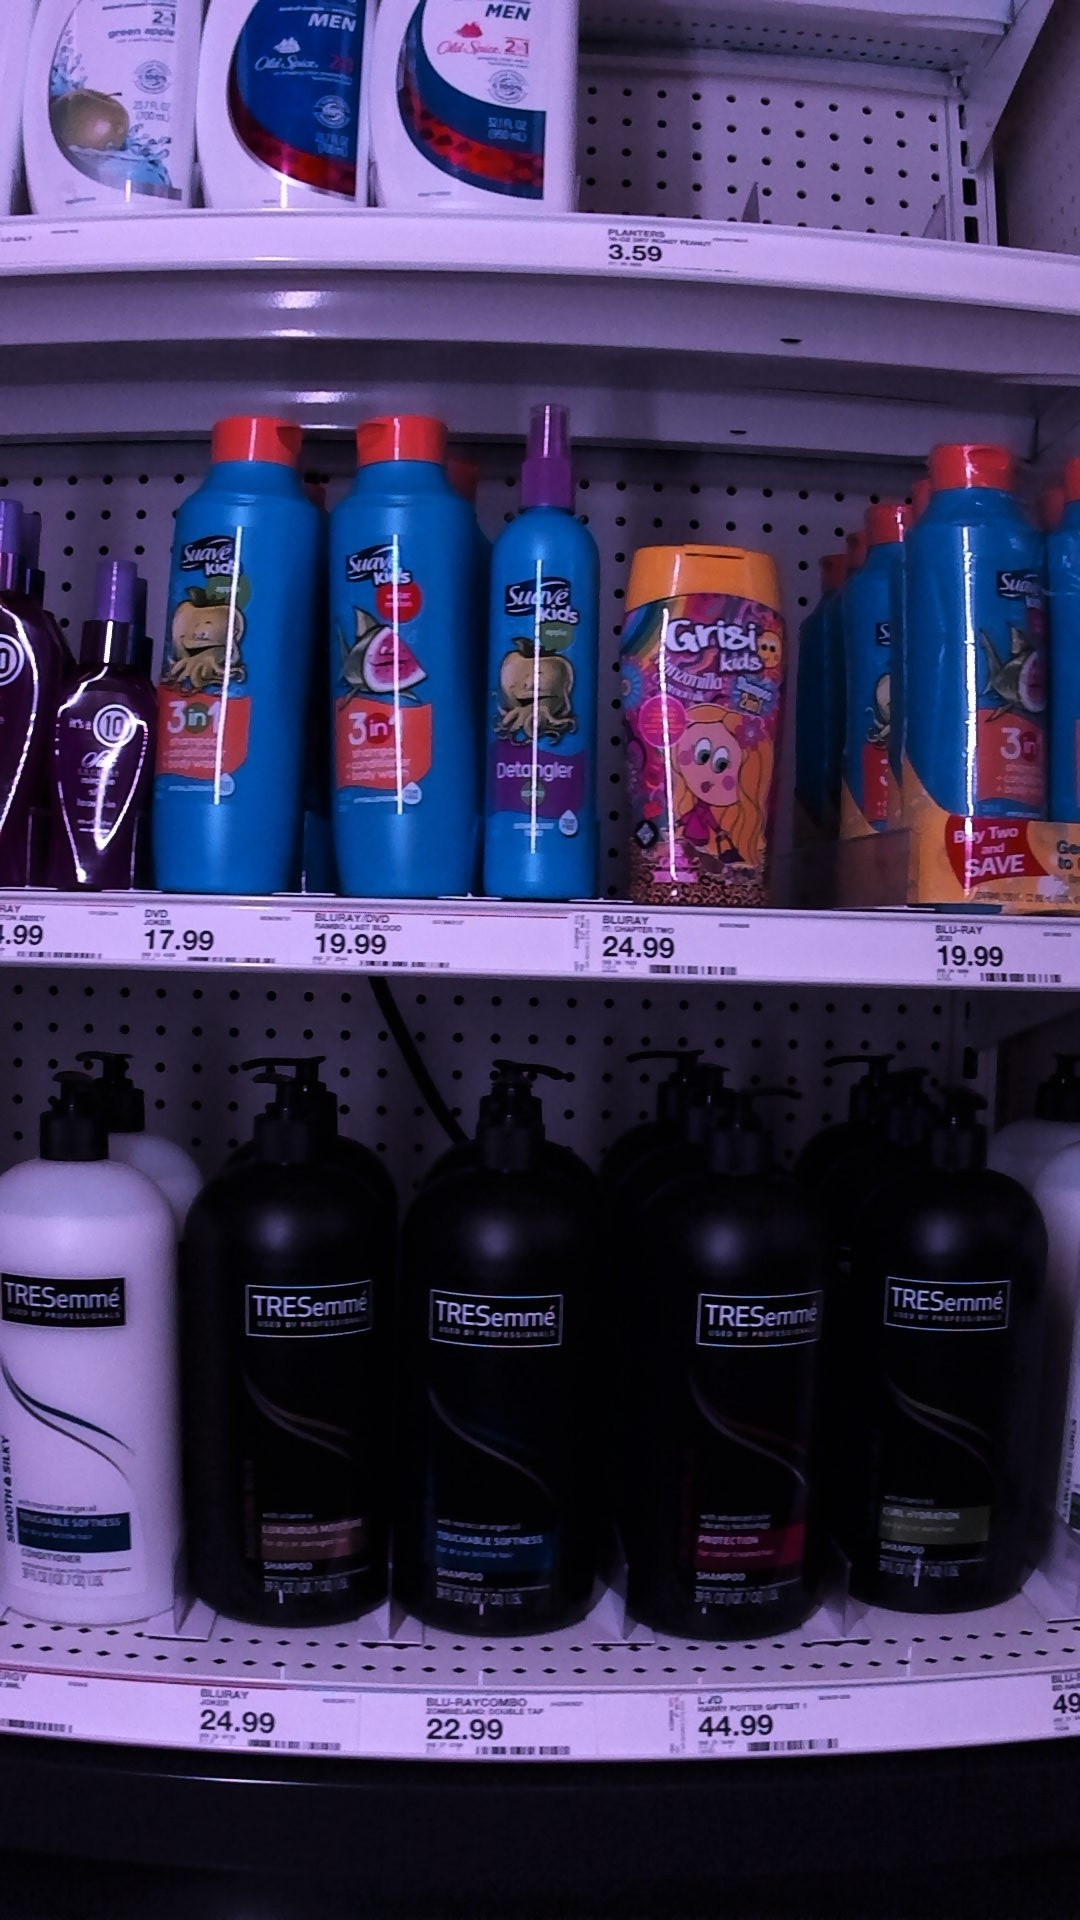ptag: (574, 897, 746, 997), (306, 897, 475, 989), (182, 1671, 349, 1762), (418, 1684, 591, 1771), (682, 1677, 851, 1764), (913, 909, 1071, 996), (140, 891, 286, 980), (597, 206, 752, 289), (1, 891, 123, 967)
